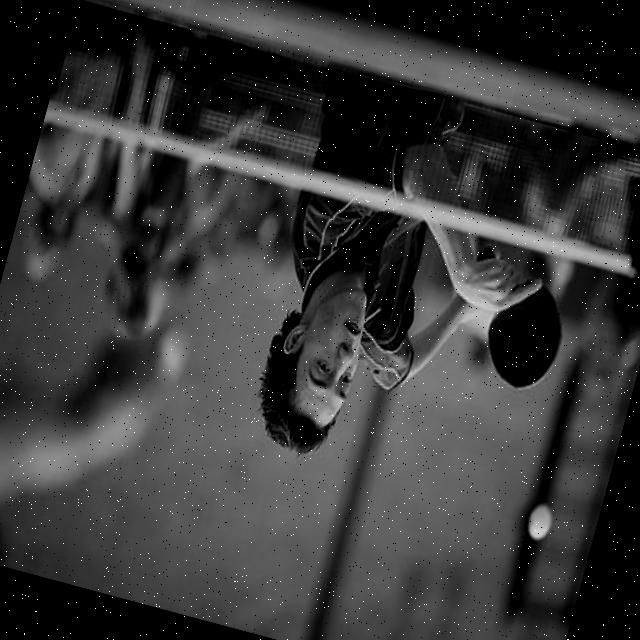ping-pong-ball: (524, 500, 556, 541)
